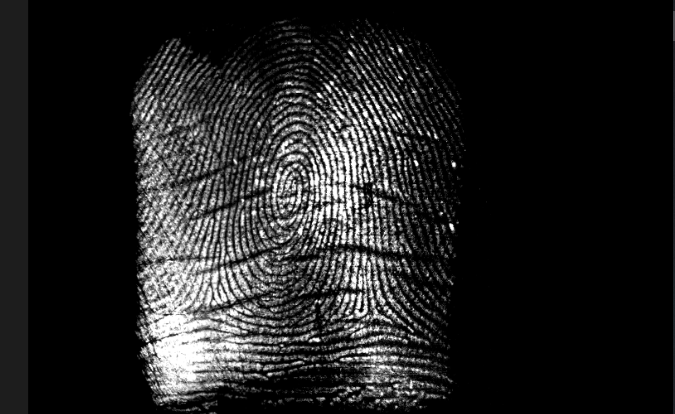deltas: (183, 267, 241, 328), (349, 282, 397, 333)
nucleo: (264, 167, 310, 214)
